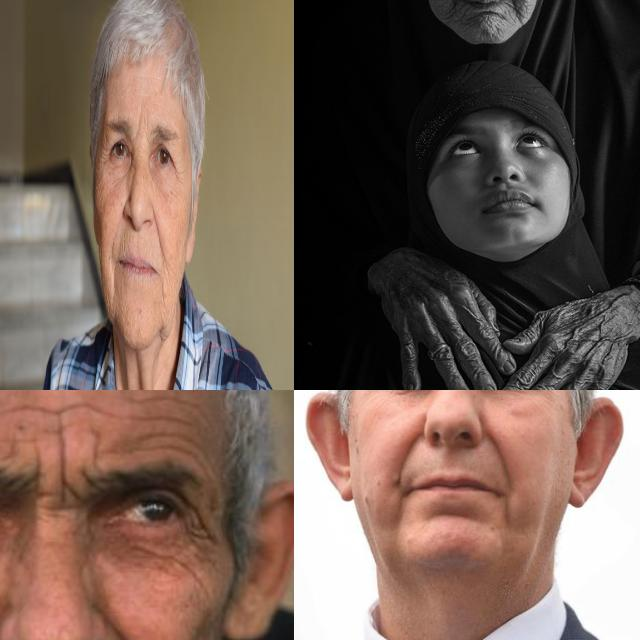chin: (472, 6, 506, 20)
crows_feet: (183, 498, 209, 550), (100, 140, 109, 166), (172, 159, 181, 181)
forehead: (138, 408, 188, 452), (17, 393, 88, 419), (79, 423, 107, 462)
frown_line: (56, 451, 74, 499), (74, 463, 104, 489), (26, 458, 48, 492), (134, 111, 142, 138), (144, 112, 151, 140)
gummy_smile: (101, 615, 161, 640), (486, 429, 512, 473), (397, 428, 421, 469), (153, 212, 165, 254), (111, 219, 120, 262)
sad_smile: (447, 0, 462, 24), (509, 0, 525, 21), (111, 271, 119, 303), (159, 280, 167, 306)
smoker_lines: (119, 234, 127, 256)
